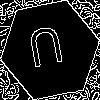U: (25, 25, 68, 77)
